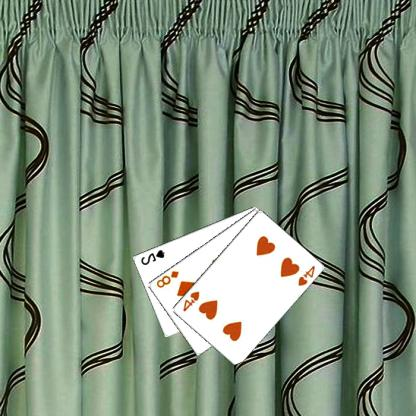2S: (140, 247, 168, 266)
4H: (296, 263, 318, 287), (182, 288, 202, 312)
8D: (155, 268, 182, 289)
